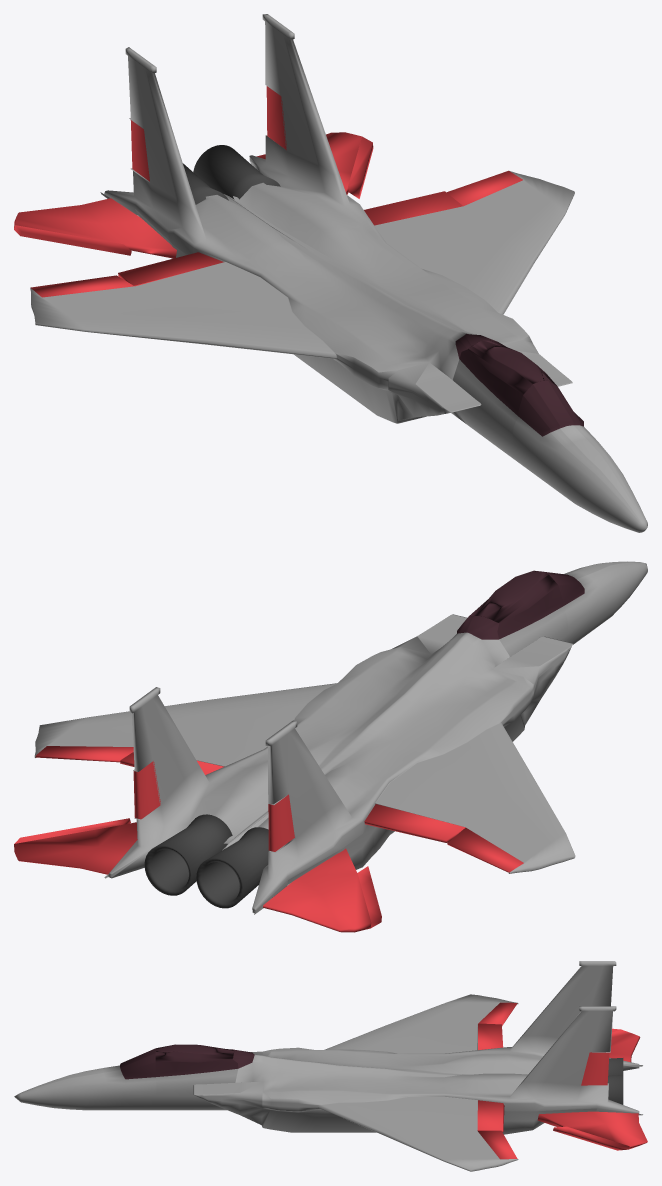
The model's file is f15Ver2.glb.
3 renders of one model, top to bottom at view 1: azimuth 30°, elevation 25°; view 2: azimuth 150°, elevation 25°; view 3: azimuth 270°, elevation 25°, orthographic. The views are drawn at different scales.
Visible parts, largest first — view 1: Cube; view 2: Cube; view 3: Cube.
Boxes of the visible parts, x1=… form: Cube: x1=14, y1=14, x2=647, y2=532; Cube: x1=14, y1=561, x2=647, y2=932; Cube: x1=14, y1=961, x2=647, y2=1171.
Bounding box in the file's own units: 6.97 × 2.41 × 10.62.
